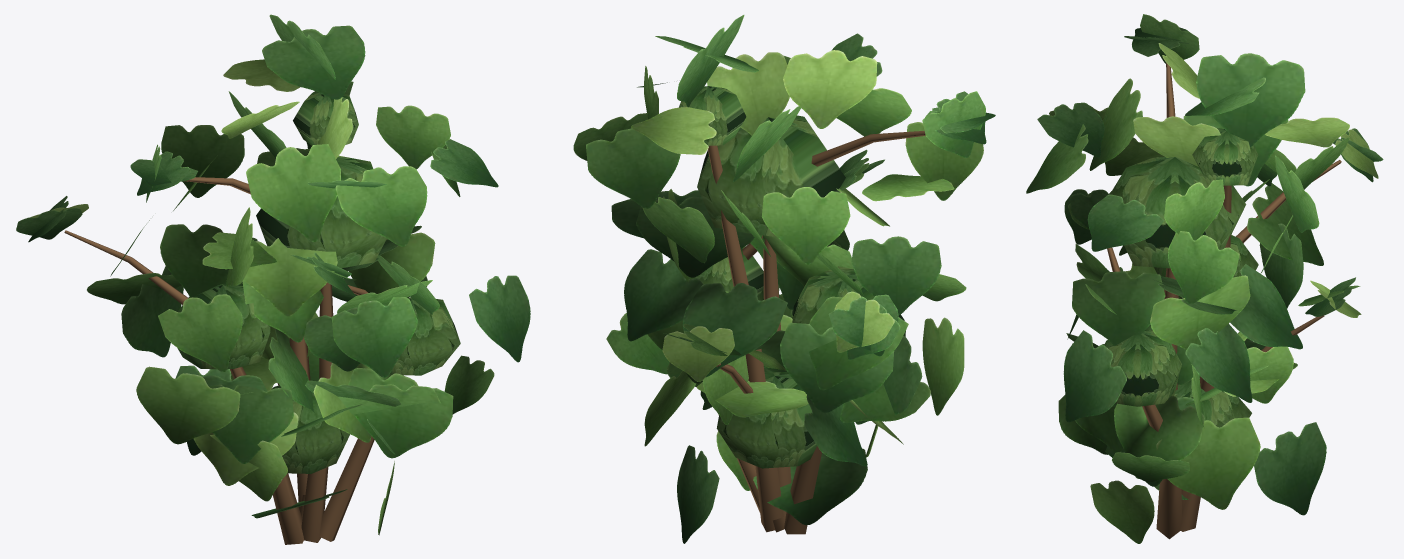
The model's file is shrub-c.glb.
3 views of the same model, side by side, from view 1: azimuth 30°, elevation 25°; view 2: azimuth 150°, elevation 25°; view 3: azimuth 270°, elevation 25° (orthographic). The views are drawn at different scales.
Visible parts, largest first — view 1: Leaves, Twigs; view 2: Leaves, Twigs; view 3: Leaves, Twigs.
Boxes of the visible parts, x1,y1,x2,y2 form: Leaves: [16, 14, 530, 535]; Twigs: [64, 177, 374, 544]; Leaves: [573, 15, 995, 543]; Twigs: [708, 131, 925, 534]; Leaves: [1026, 14, 1383, 543]; Twigs: [1107, 62, 1341, 539].
Bounding box in the file's own units: 1.22 × 1.45 × 0.9822.
Materials: 2 (1 with a texture image).
